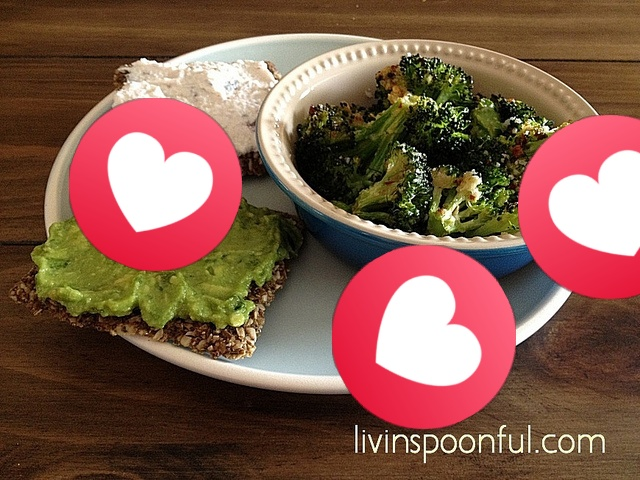love: (332, 245, 516, 429), (69, 98, 242, 271), (518, 115, 640, 299)
